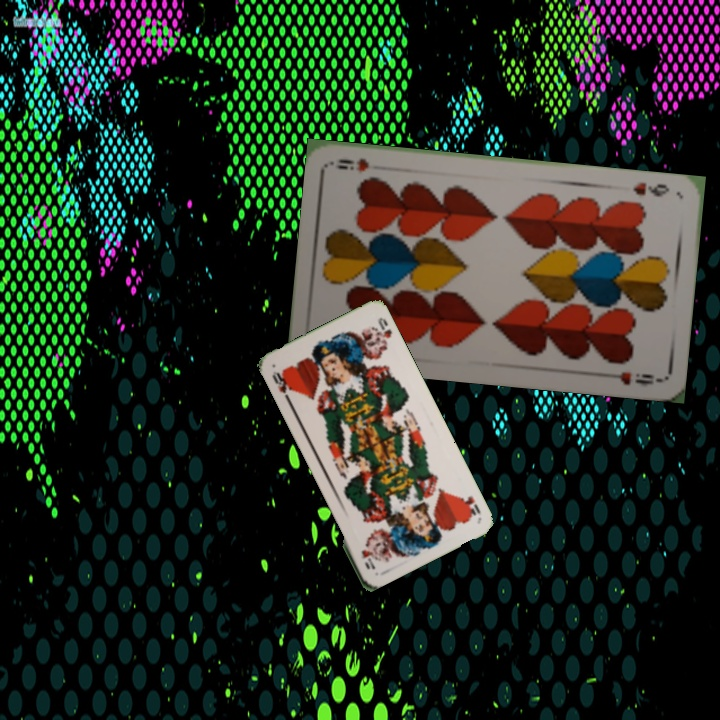H9: (629, 178, 672, 199)
HO: (268, 367, 293, 404), (456, 492, 483, 520)
